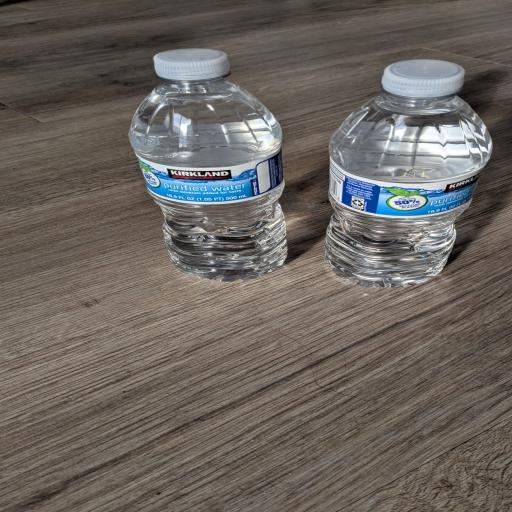waterbottle: (326, 60, 491, 286), (130, 49, 286, 280)
